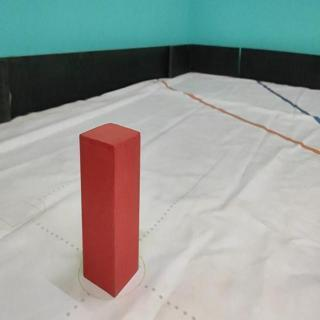redbox: (79, 121, 141, 299)
